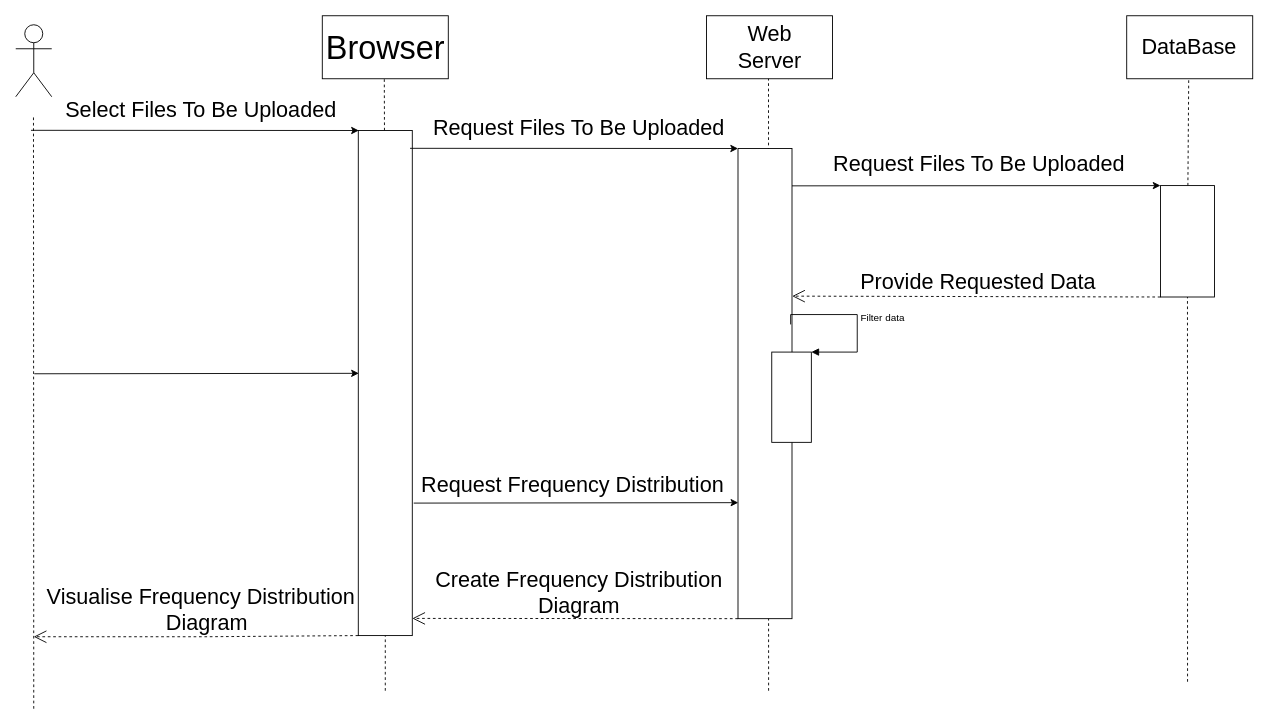
This 1269x725 diagram has some shape labels left out. Here are the shapes that lost their labels. From the top down, the box of each, then its label:
(15, 24, 52, 97): User
(357, 130, 412, 636): Select Frequency Distribution
